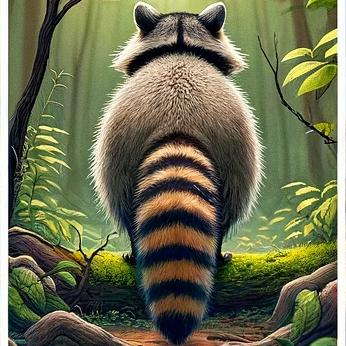raccoon: (82, 0, 272, 346)
